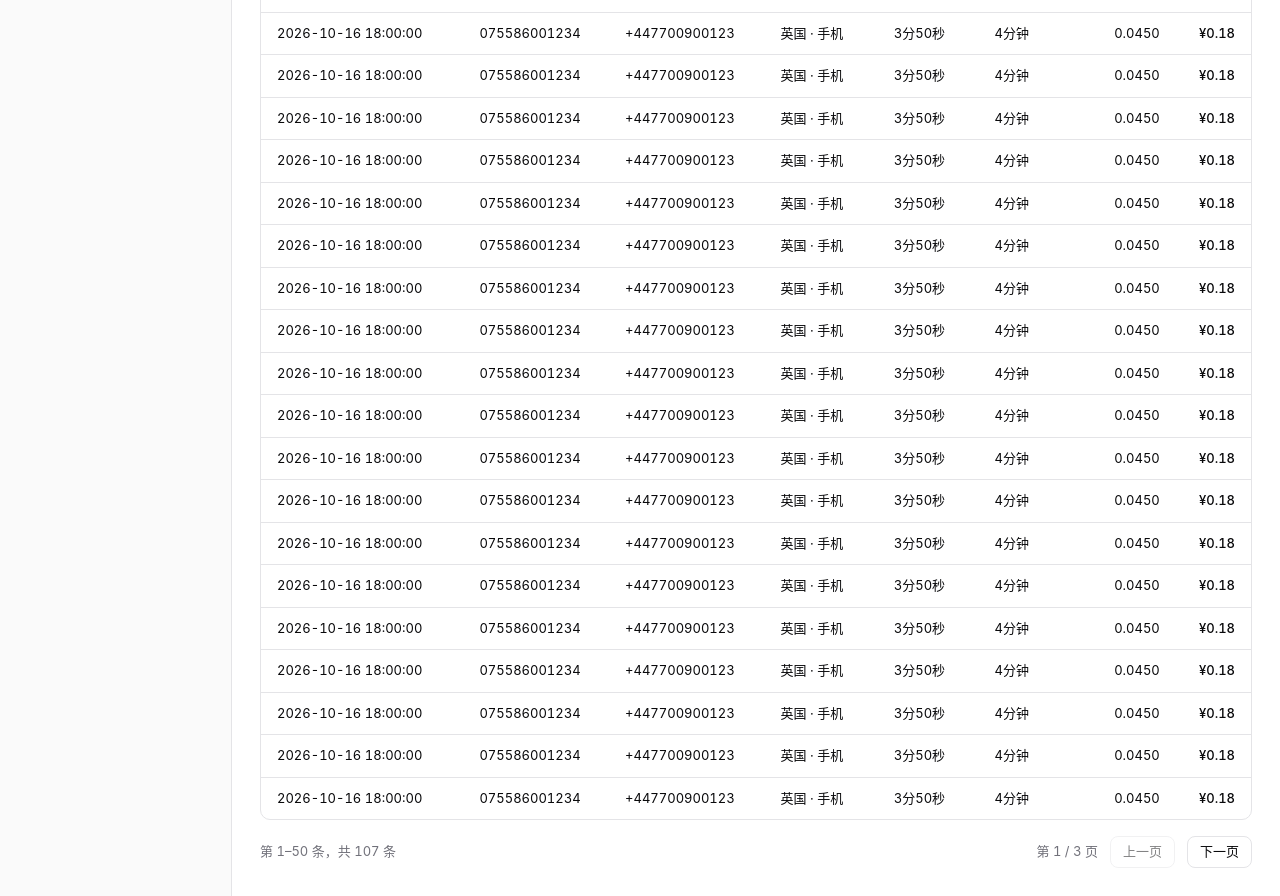
Test case: portal CDR list › pages through the server pages with a range caption
(page scrolled)
Expected: the text "第 1–50 条，共 107 条" is shown, top-left (260, 842), bottom-right (396, 862)
Click the button "下一页" at (1220, 852), box top-left (1187, 836), bottom-right (1252, 868)
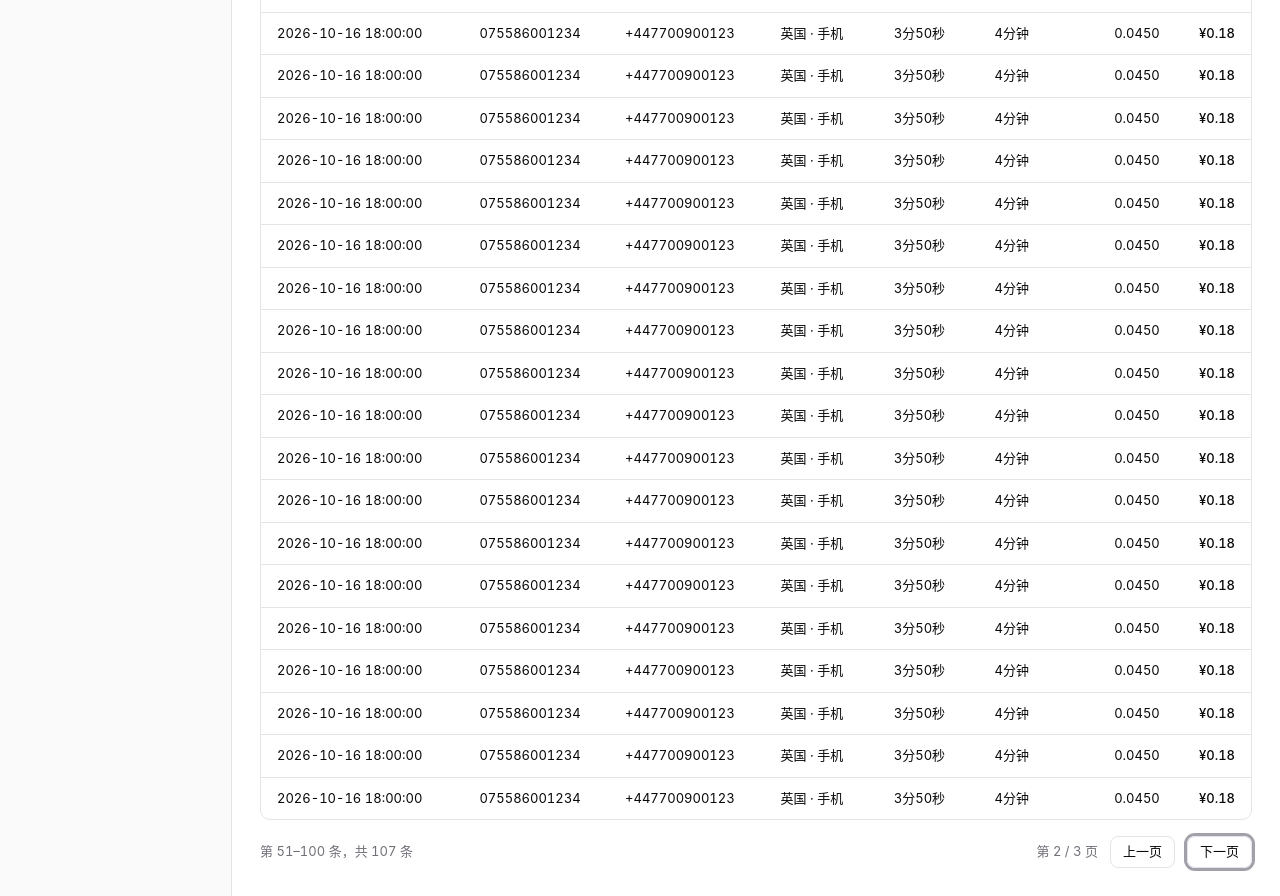
Expected: the text "第 51–100 条，共 107 条" is shown, top-left (260, 842), bottom-right (413, 862)
Click the button "下一页" at (1220, 852), box top-left (1187, 836), bottom-right (1252, 868)
(page scrolled)
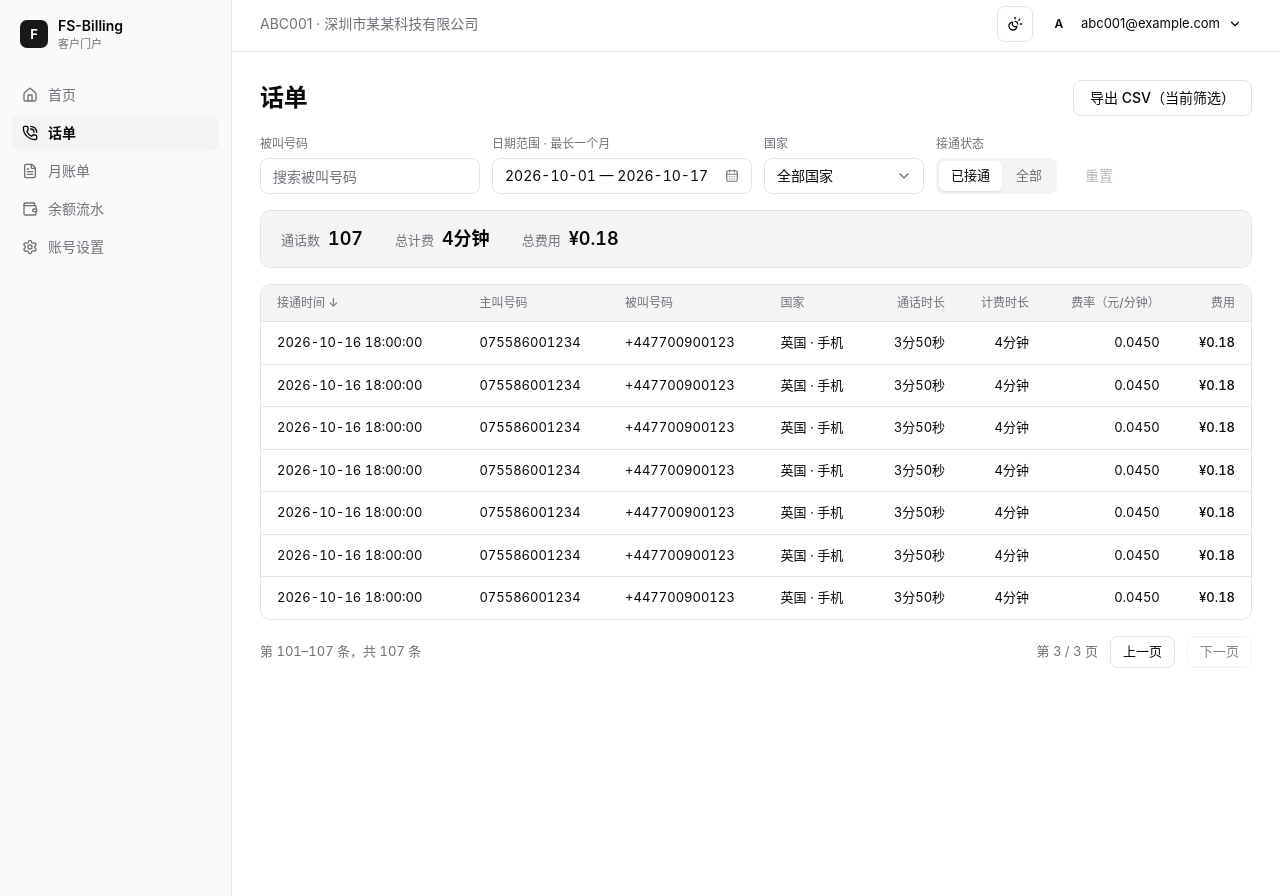
Expected: the text "第 101–107 条，共 107 条" is shown, top-left (260, 642), bottom-right (421, 661)
Click the button "上一页" at (1142, 652), box top-left (1110, 636), bottom-right (1175, 668)
(page scrolled)
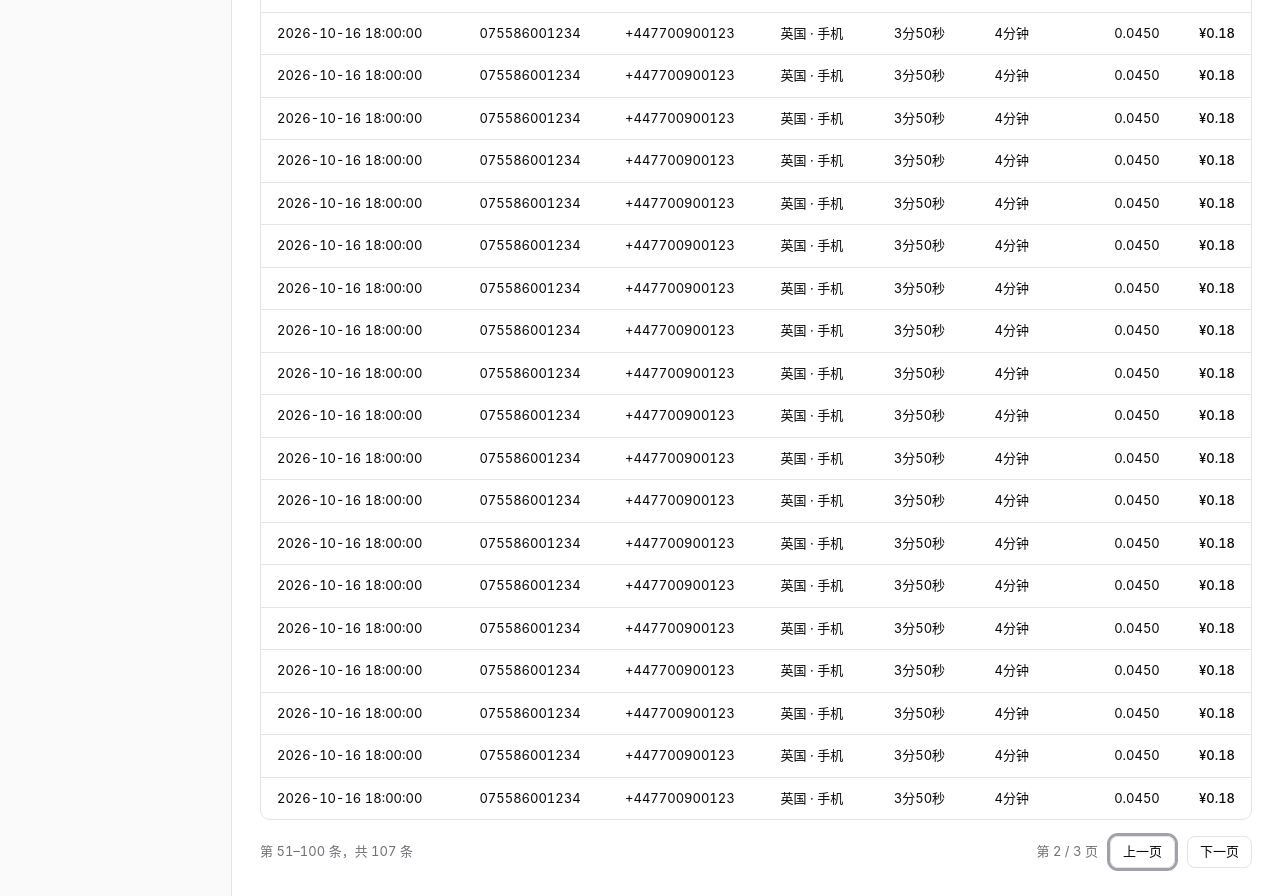
Click the button "上一页" at (1142, 852), box top-left (1110, 836), bottom-right (1175, 868)
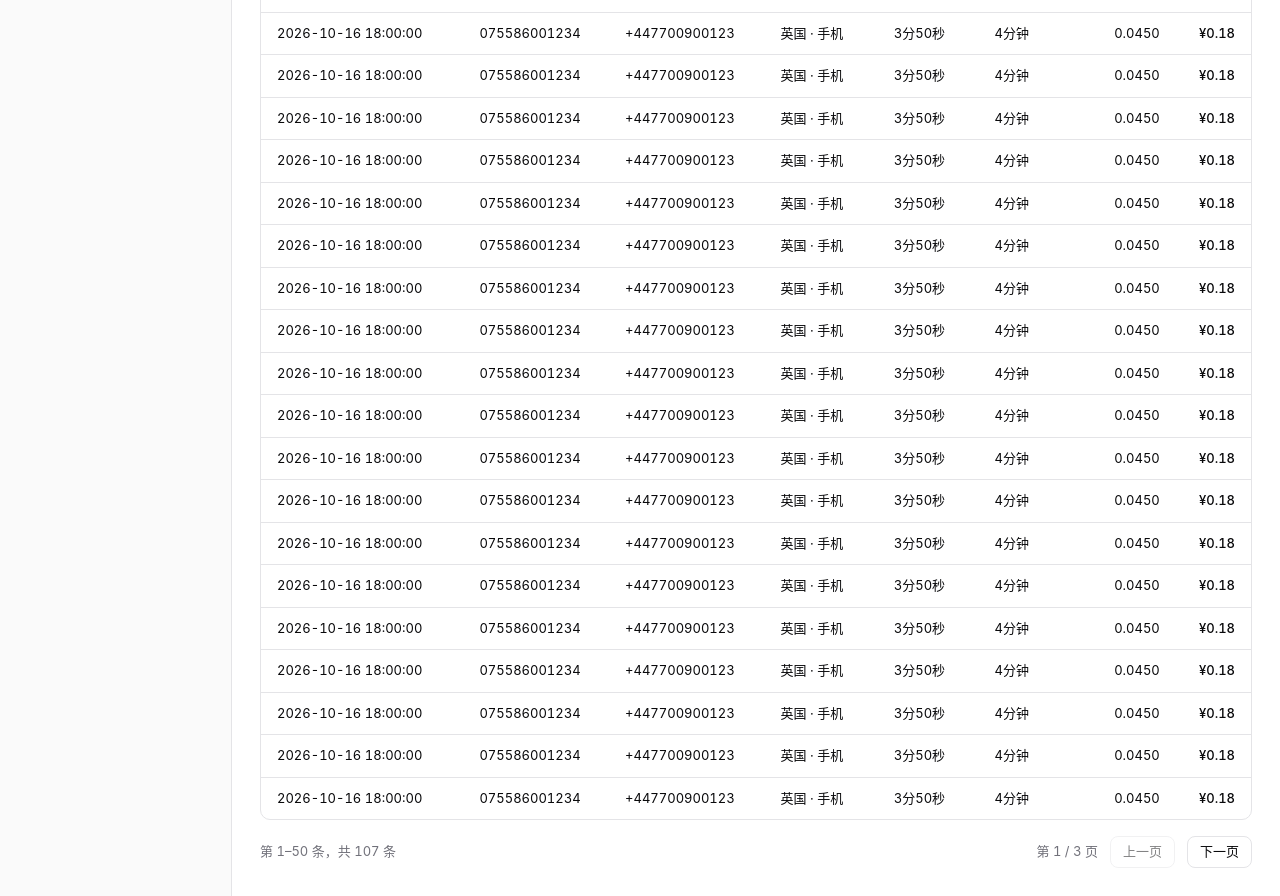
Expected: the text "第 1–50 条，共 107 条" is shown, top-left (260, 842), bottom-right (396, 862)
